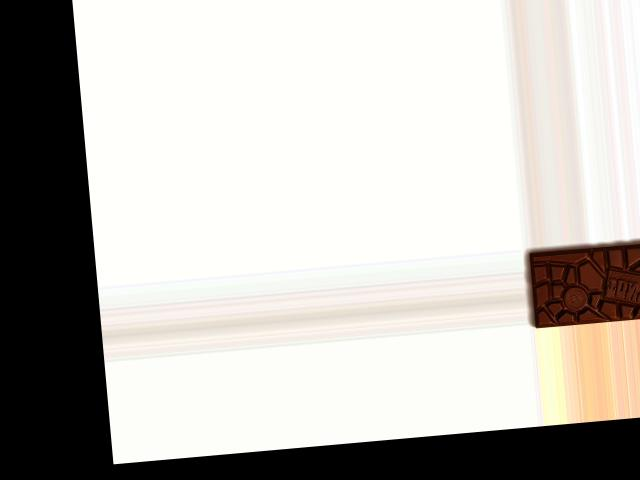chocolate: (527, 236, 640, 328)
